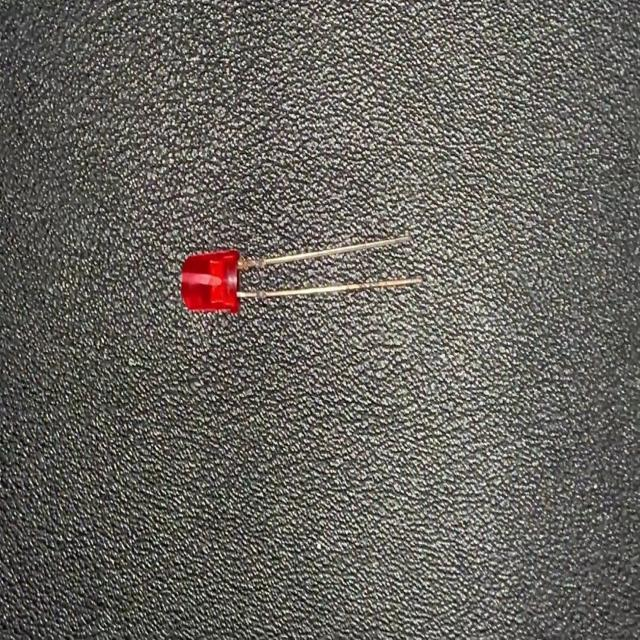LED: (177, 230, 428, 324)
